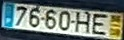0: (58, 9, 71, 31)
6: (43, 8, 57, 30), (27, 7, 41, 28)
7: (14, 5, 27, 27)
E: (91, 12, 108, 35)
H: (74, 11, 91, 33)
